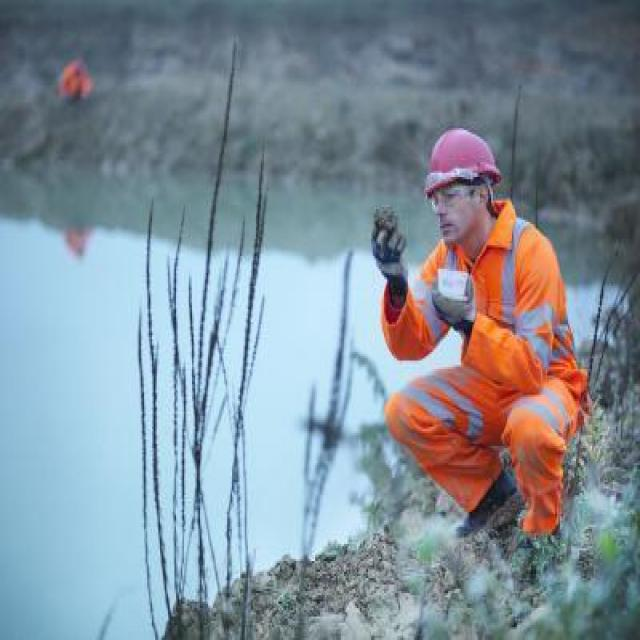hat: (415, 117, 508, 252)
